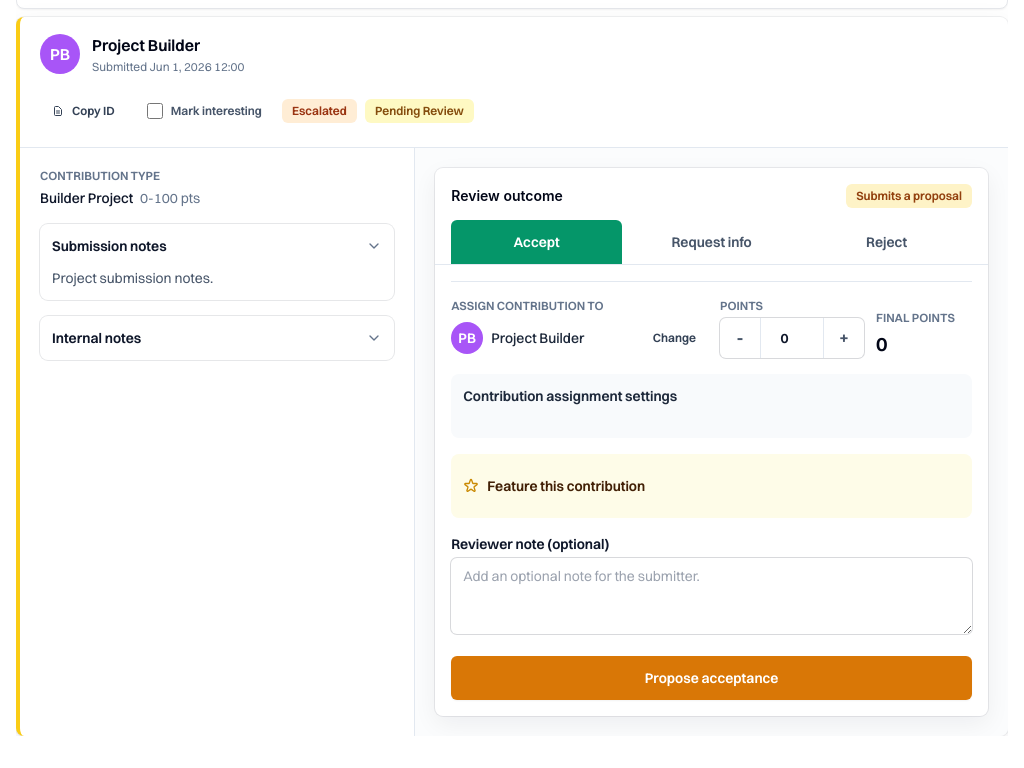
Test: Steward submissions queue shortcuts › removes a submission when a replacement proposal clears its escalation
This screenshot has width=1024, height=768.
(page scrolled)
Click the button "Propose acceptance" at (712, 678), box x1=451 y1=656 x2=972 y2=700
(page scrolled)
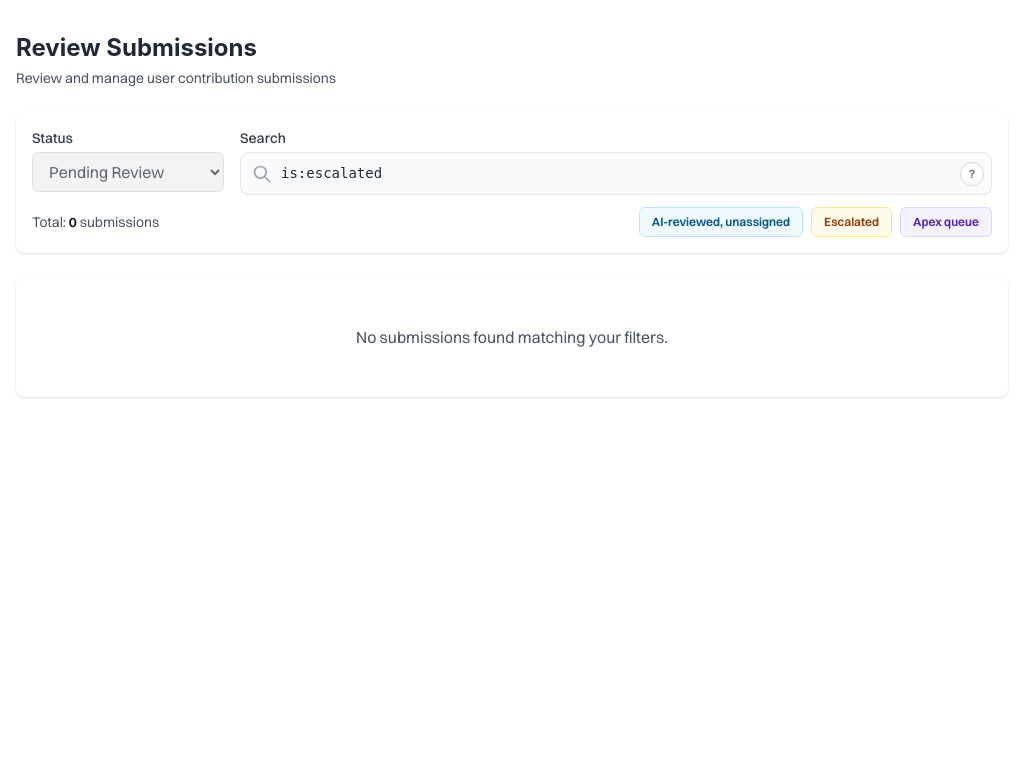
expect the text "0" is shown: met, box x1=69 y1=213 x2=77 y2=231
expect the text "No submissions found matching your filters." is shown: met, box x1=356 y1=327 x2=668 y2=347
